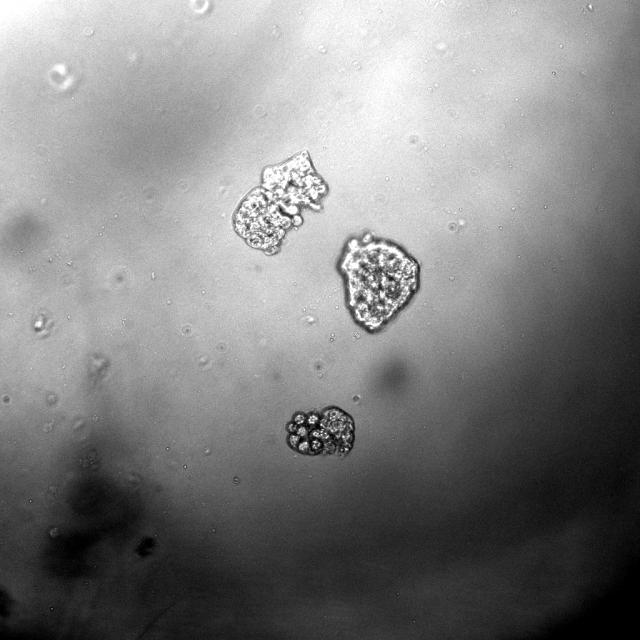organoid: (232, 150, 328, 254), (337, 232, 419, 333), (286, 406, 353, 457)
